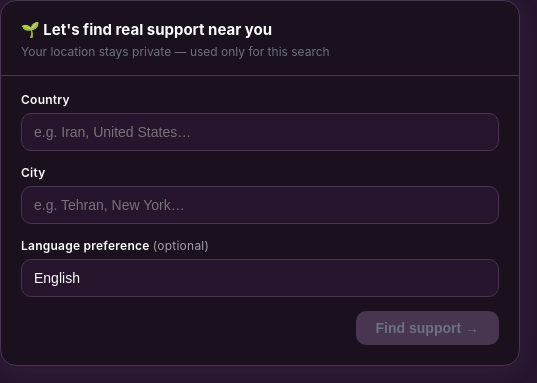
it: SupportWidget — search flow › shows error message on failed fetch
Type "US" into the field labelled "Country" at {"x": 260, "y": 132}, box [21, 113, 499, 151]
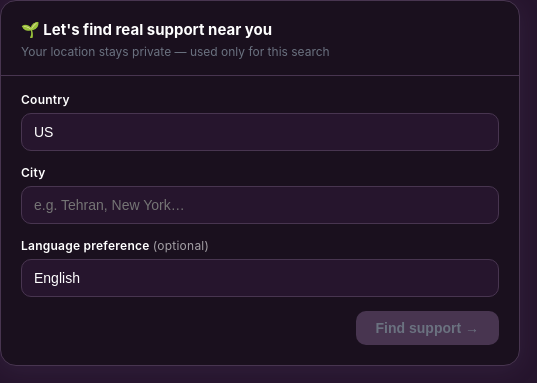
Type "NYC" into the field labelled "City" at {"x": 260, "y": 205}, box [21, 186, 499, 224]
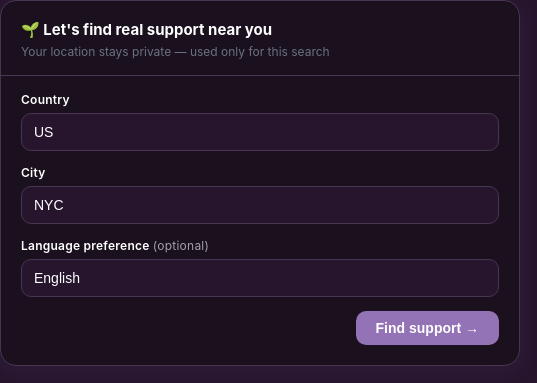
Click the button "Find support →" at {"x": 427, "y": 328}, box [356, 311, 499, 345]
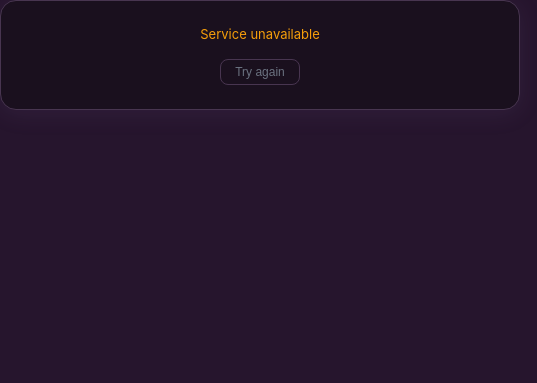
Result: the text "Service unavailable" is shown at [200, 25, 320, 44]
